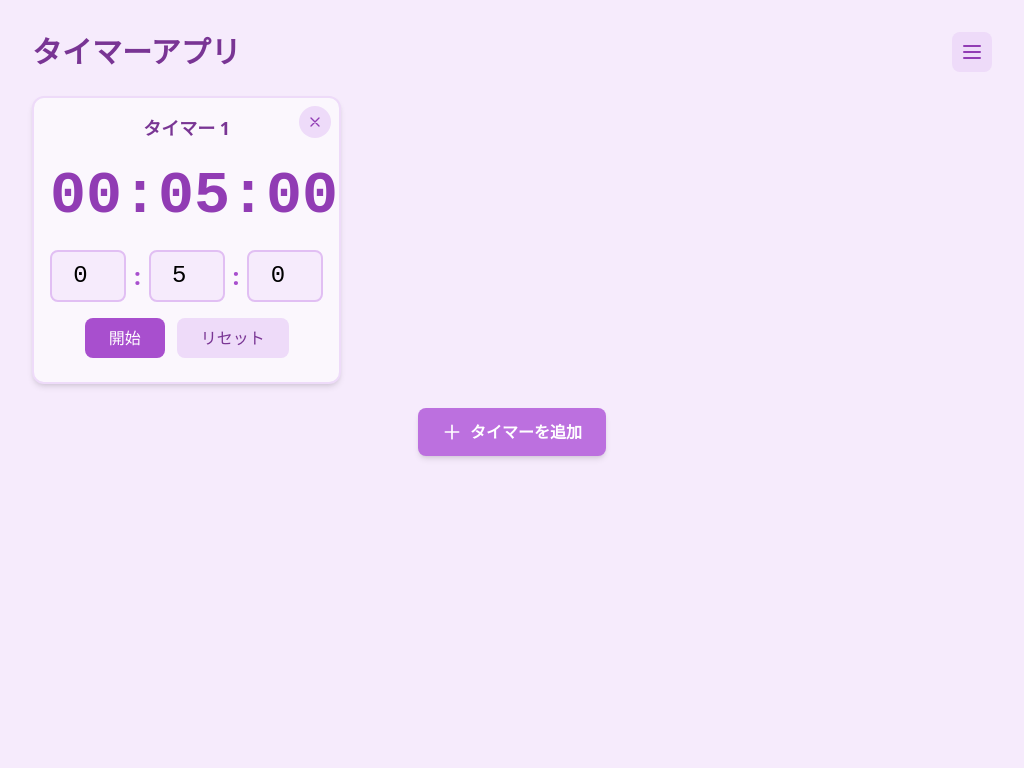
Scenario: App › 設定パネル統合 (Req 3.4) › ハンバーガーメニューを開くと設定パネルが表示される
Click the button with test id "hamburger-menu-button". click: (972,52)
box: top-left (952, 32), bottom-right (992, 72)
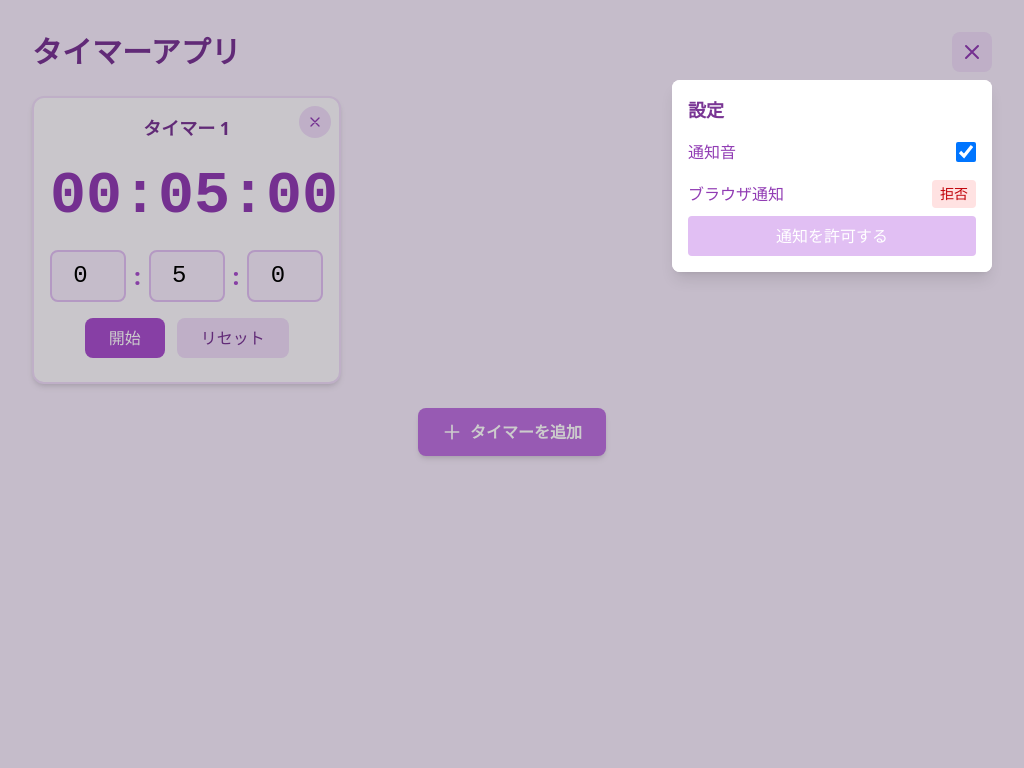
Expected: the element with test id "settings-panel" is shown, top-left (672, 80), bottom-right (992, 272)
